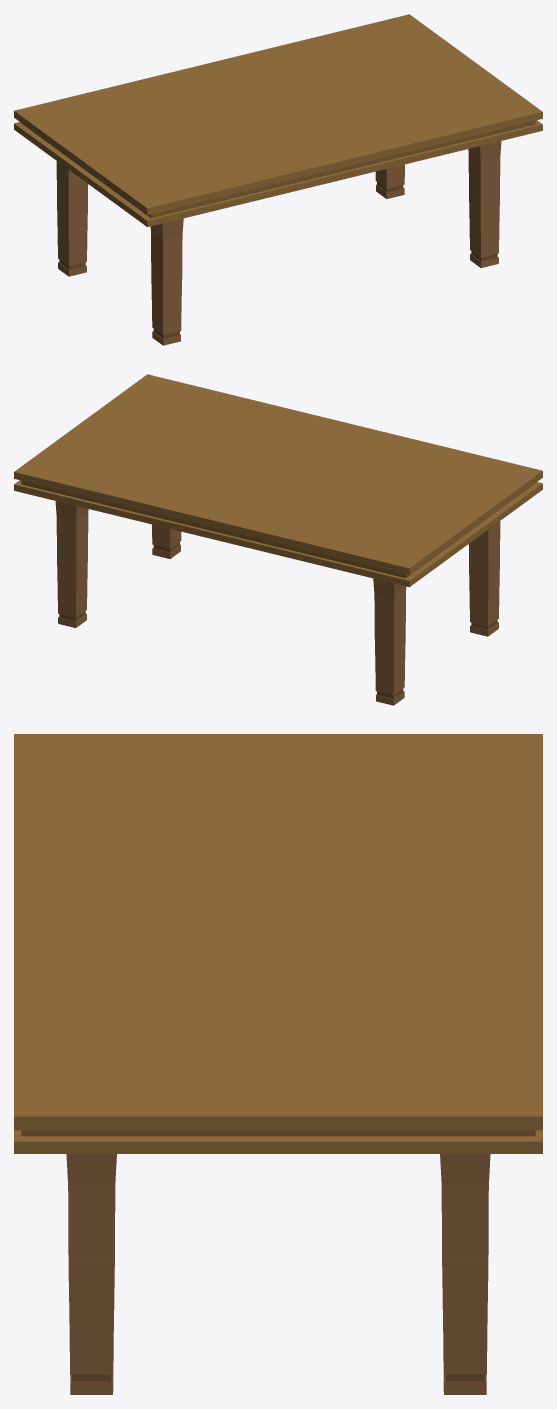
Rendered from table.glb.
The picture shows the model from 3 angles, top to bottom: view 1: azimuth 30°, elevation 25°; view 2: azimuth 150°, elevation 25°; view 3: azimuth 270°, elevation 25°; orthographic projection. The views are drawn at different scales.
Visible parts, largest first — view 1: Cube, Cube.001; view 2: Cube, Cube.001; view 3: Cube, Cube.001.
Part boxes in pixels (x1,y1,x2,y2): Cube: (14, 14, 542, 227); Cube.001: (56, 141, 501, 345); Cube: (14, 374, 542, 587); Cube.001: (55, 501, 500, 705); Cube: (14, 734, 542, 1153); Cube.001: (66, 1154, 490, 1394).
Bounding box in the file's own units: 2.95 × 1.11 × 1.72.
